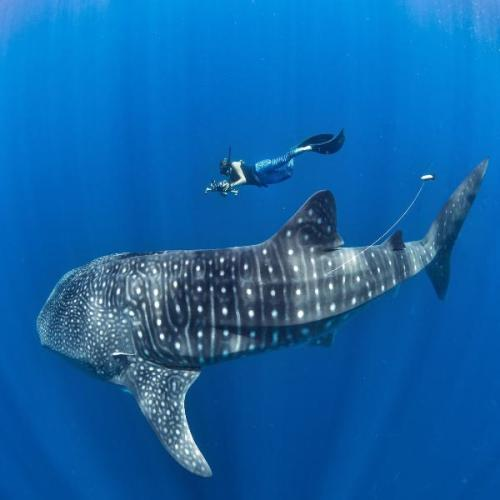shark-endangered: (35, 155, 488, 476)
